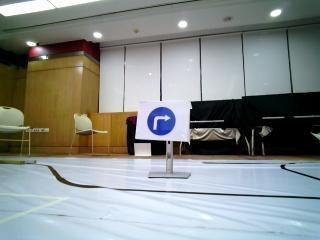right: (143, 105, 187, 140)
